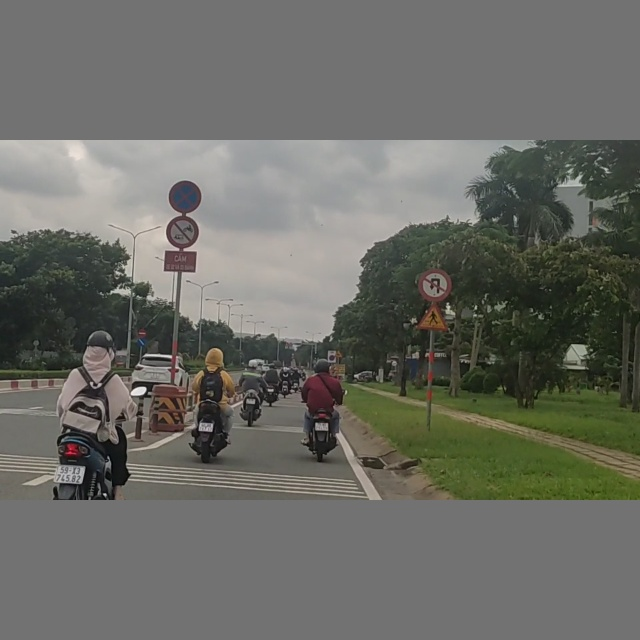P.102: (137, 328, 147, 337)
P.111: (167, 216, 199, 249)
P.124a*: (419, 268, 451, 301)
P.130: (169, 181, 202, 213)
R.302a: (138, 338, 146, 347)
W.224: (417, 304, 447, 331)
